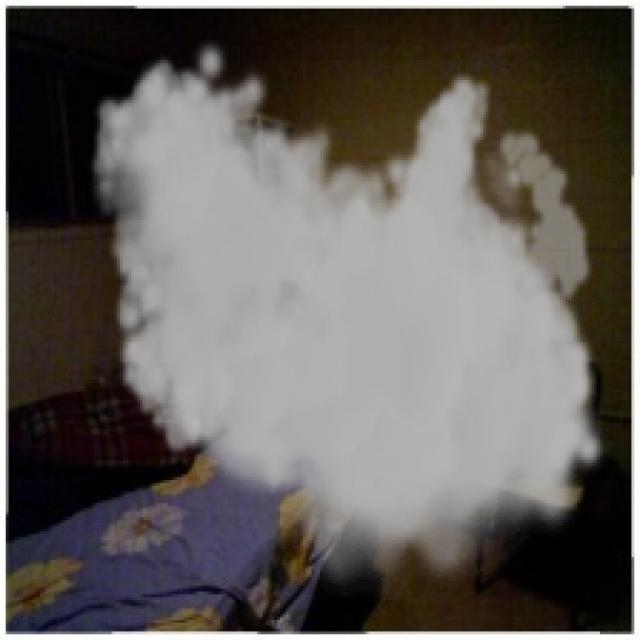Smoke: (89, 37, 608, 600)
